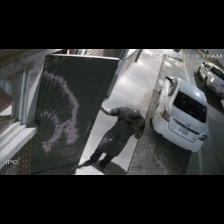person: (85, 108, 144, 172)
